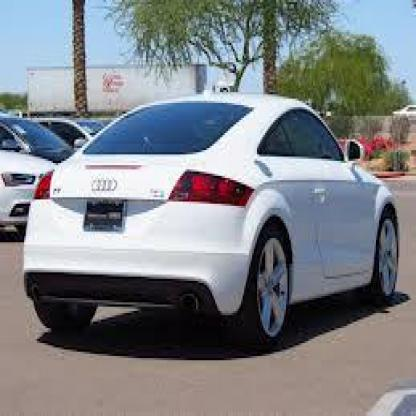Vehicle: (20, 90, 398, 343)
